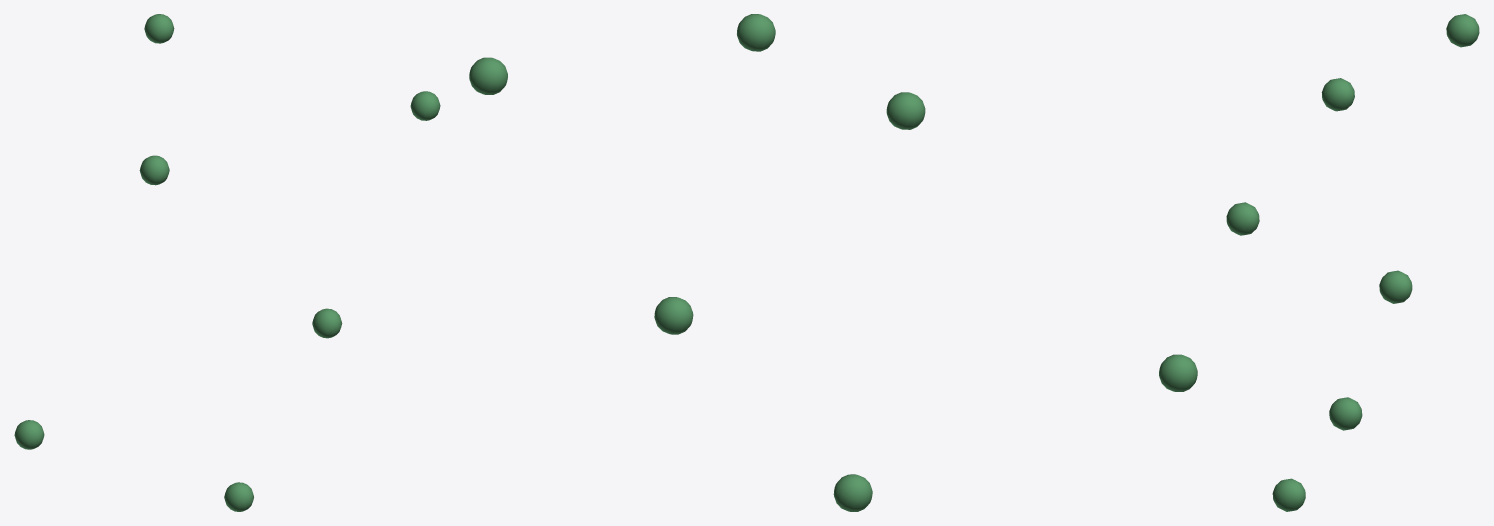
3 views of the same model, side by side, from view 1: azimuth 30°, elevation 25°; view 2: azimuth 150°, elevation 25°; view 3: azimuth 270°, elevation 25° (orthographic). The views are drawn at different scales.
Parts seen in each view (by area): view 1: 膈上淋巴结; view 2: 膈上淋巴结; view 3: 膈上淋巴结.
Part boxes in pixels (left/top/right/bottom): 膈上淋巴结: left=14, top=14, right=440, bottom=511; 膈上淋巴结: left=469, top=14, right=1197, bottom=511; 膈上淋巴结: left=1226, top=14, right=1479, bottom=511.
Size of the model in its own units: 0.072 by 0.0617 by 0.0287.
